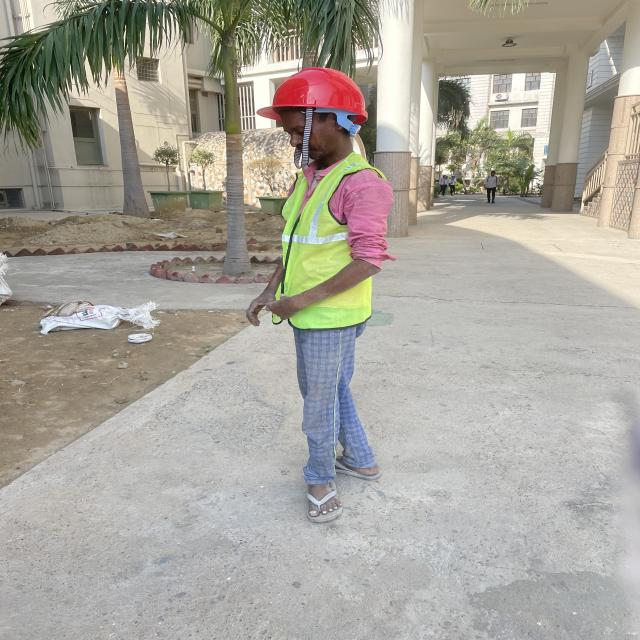safe: (250, 68, 392, 522)
